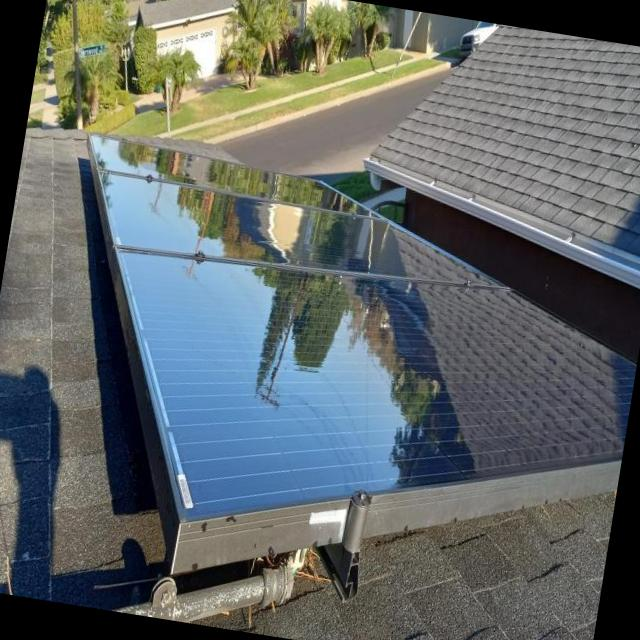no faulty: (124, 255, 636, 503), (102, 171, 494, 287), (96, 136, 368, 216)
